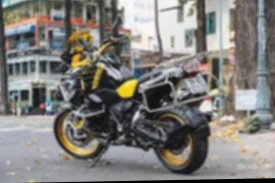Bien-so: (183, 78, 207, 99)
